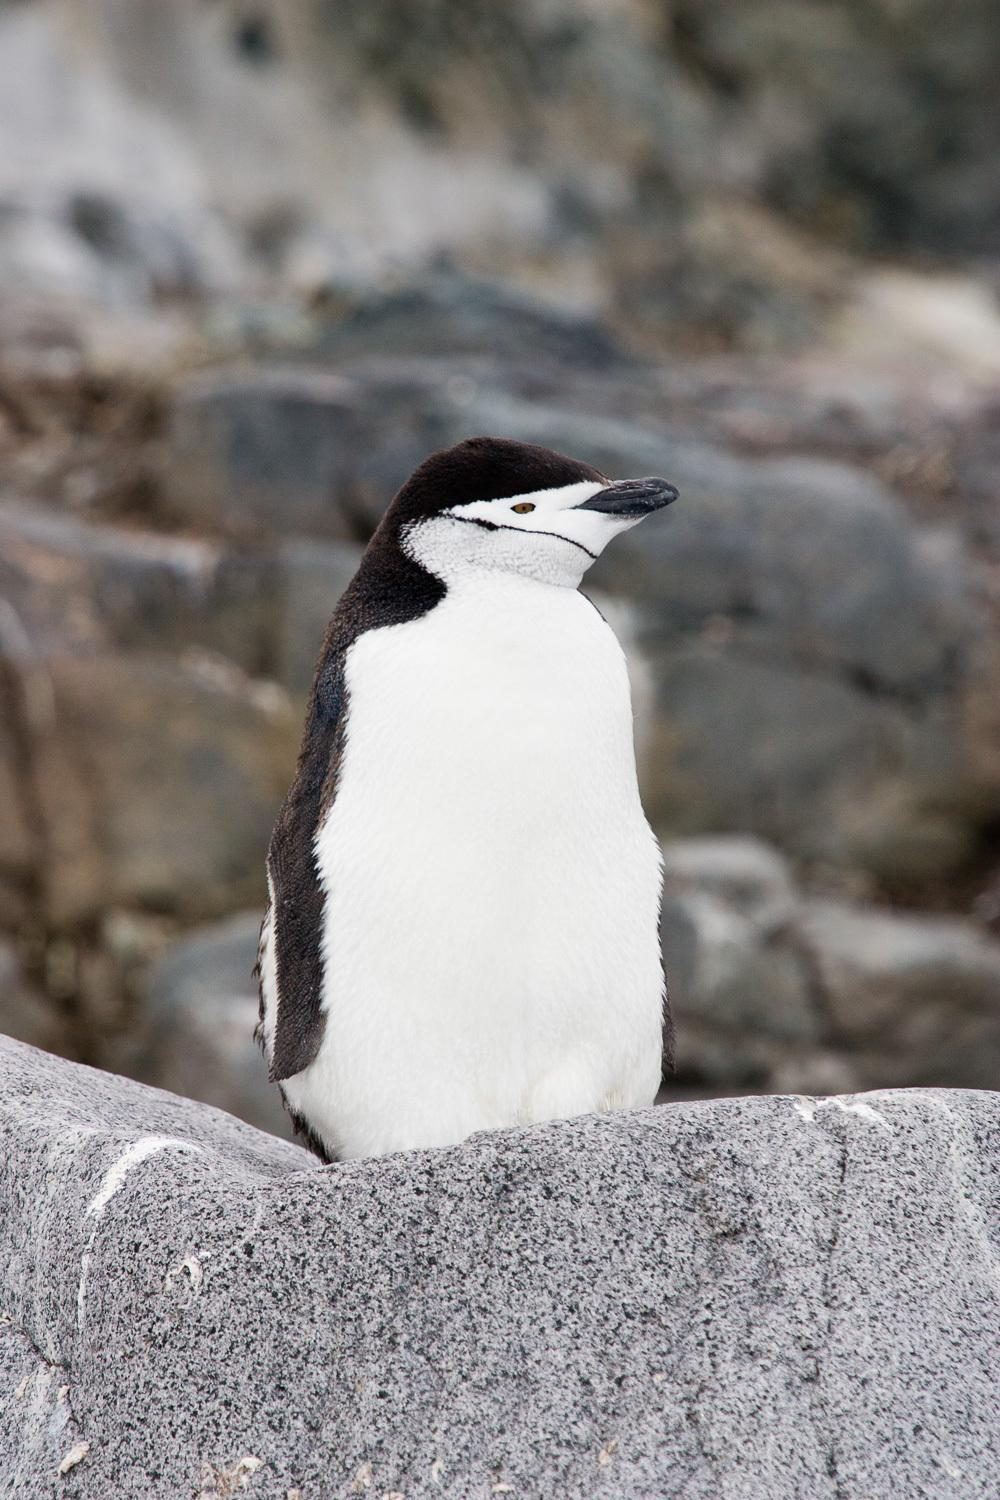chinstrap: (234, 387, 790, 1319)
